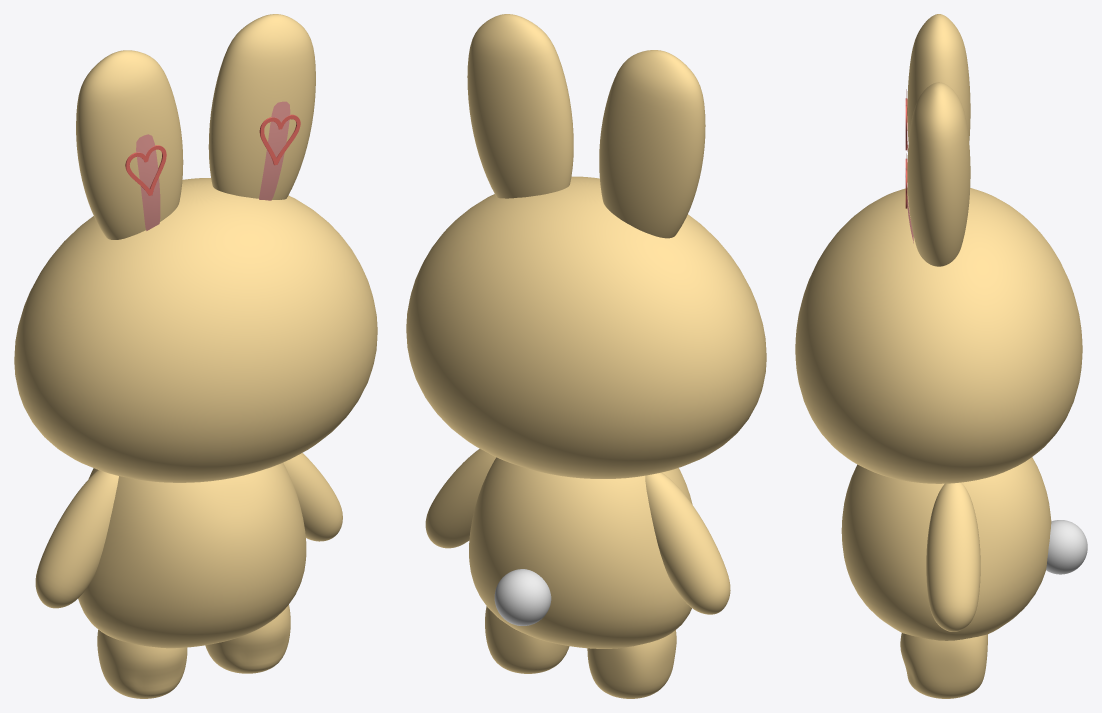
The model's file is Koko_Character_v01.fbx.
The picture shows the model from 3 angles, left to right: view 1: azimuth 30°, elevation 25°; view 2: azimuth 150°, elevation 25°; view 3: azimuth 270°, elevation 25°; orthographic projection. The views are drawn at different scales.
Visible parts, largest first — view 1: Head, Body, Ear_right, Ear_left, Arm_right, Leg_right, Leg_left, Arm_left, 球.001, inner_right, ♡.001, ♡; view 2: Head, Body, Ear_right, Ear_left, Arm_right, Leg_right, Arm_left, Leg_left, Tail; view 3: Head, Body, Ear_left, Arm_left, Leg_left, Ear_right, Tail.
Boxes of the visible parts, x1,y1,x2,y2 form: Head: (14, 178, 377, 482); Body: (78, 463, 306, 648); Ear_right: (76, 50, 183, 239); Ear_left: (208, 14, 315, 199); Arm_right: (35, 470, 118, 608); Leg_right: (97, 629, 187, 698); Leg_left: (205, 605, 290, 673); Arm_left: (283, 453, 342, 541); 球.001: (259, 101, 290, 200); inner_right: (136, 134, 160, 230); ♡.001: (259, 114, 300, 165); ♡: (125, 145, 166, 195); Head: (406, 176, 766, 478); Body: (469, 457, 692, 648); Ear_right: (599, 50, 705, 238); Ear_left: (467, 14, 573, 198); Arm_right: (645, 472, 730, 614); Leg_right: (587, 630, 676, 698); Arm_left: (425, 448, 496, 548); Leg_left: (485, 606, 569, 673); Tail: (494, 569, 551, 625); Head: (795, 188, 1082, 483); Body: (841, 457, 1051, 640); Ear_left: (907, 82, 970, 266); Arm_left: (926, 482, 980, 631); Leg_left: (900, 633, 987, 698); Ear_right: (907, 14, 970, 141); Tail: (1046, 520, 1087, 574).
Bounding box in the file's own units: 214 × 401 × 173.
